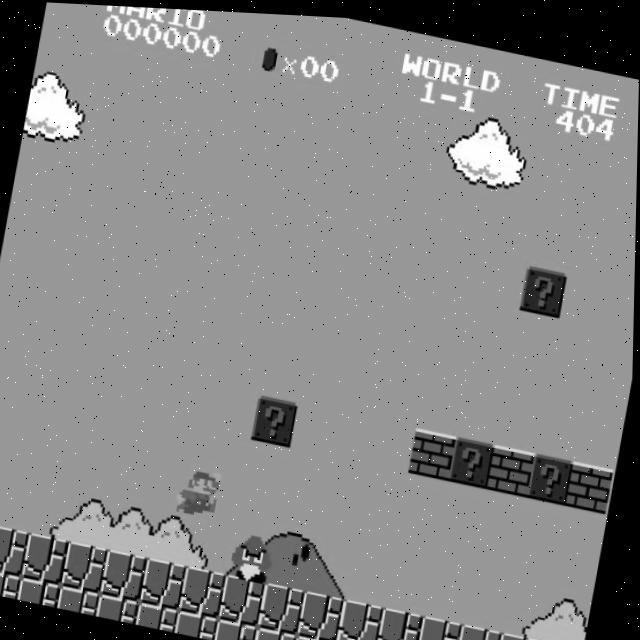1- brick_block: (488, 439, 537, 493), (567, 454, 616, 508), (410, 423, 458, 477)
11- little_mario: (174, 461, 225, 517)
13- mystery_block: (252, 392, 301, 446), (449, 431, 498, 485), (528, 446, 577, 500), (520, 259, 569, 312)
17- undestructible_block: (23, 532, 72, 586), (63, 539, 112, 593), (102, 548, 151, 602), (181, 563, 230, 617), (220, 571, 269, 625), (260, 579, 309, 633), (299, 587, 348, 640), (142, 555, 190, 609), (338, 595, 387, 640), (378, 602, 427, 640), (0, 524, 33, 578), (417, 610, 466, 640), (19, 577, 64, 608), (98, 592, 143, 623), (177, 608, 222, 639), (59, 584, 103, 615), (138, 600, 182, 631), (216, 616, 261, 640), (457, 618, 506, 640), (0, 569, 24, 599), (256, 624, 300, 640), (496, 626, 544, 640), (295, 631, 339, 640), (536, 633, 584, 640), (335, 639, 379, 640)
8- goomba: (228, 526, 279, 583)
